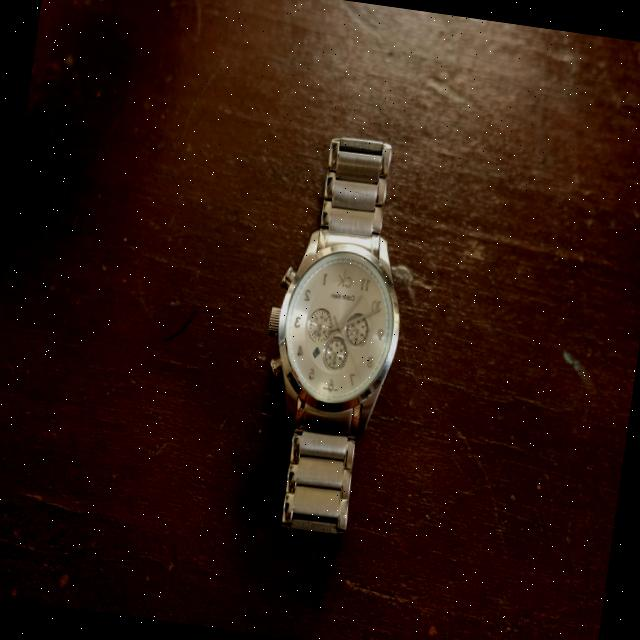Wrist watch: (238, 125, 428, 544)
